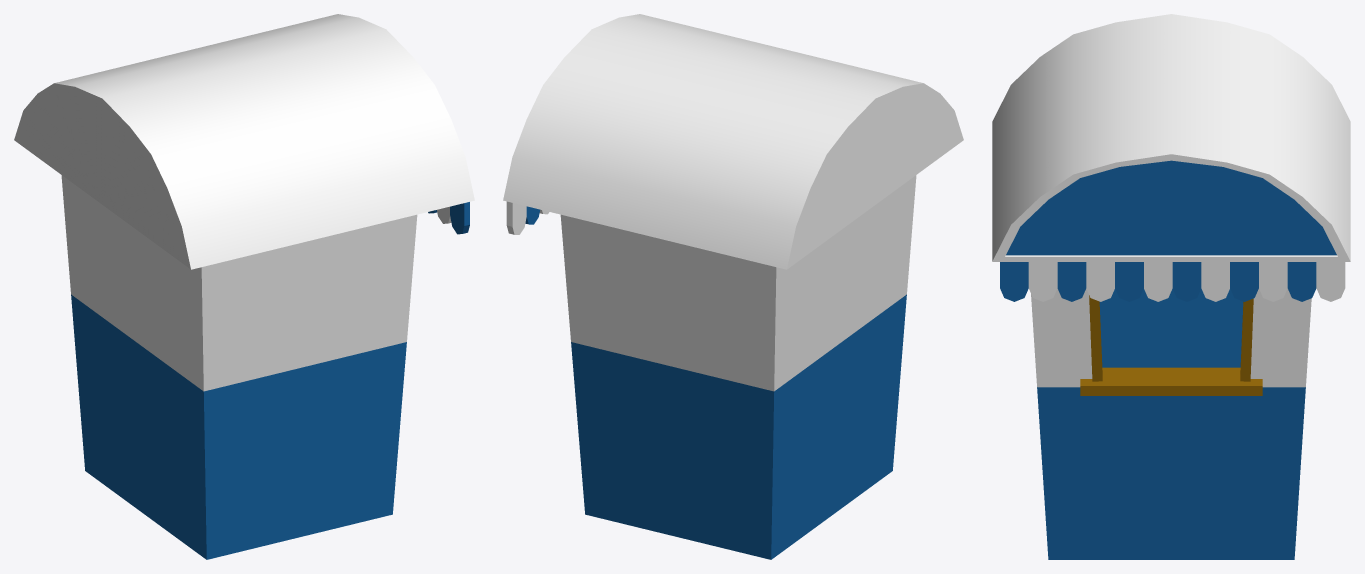
Rendered from barraca1Azul.fbx.
3 views of the same model, side by side, from view 1: azimuth 30°, elevation 25°; view 2: azimuth 150°, elevation 25°; view 3: azimuth 270°, elevation 25° (orthographic).
Visible parts, largest first — view 1: barracaDois.001; view 2: barracaDois.001; view 3: barracaDois.001.
Boxes of the visible parts, x1,y1,x2,y2 form: barracaDois.001: (14, 14, 474, 559); barracaDois.001: (503, 14, 963, 559); barracaDois.001: (992, 14, 1350, 559).
Bounding box in the file's own units: 141 × 203 × 152.
